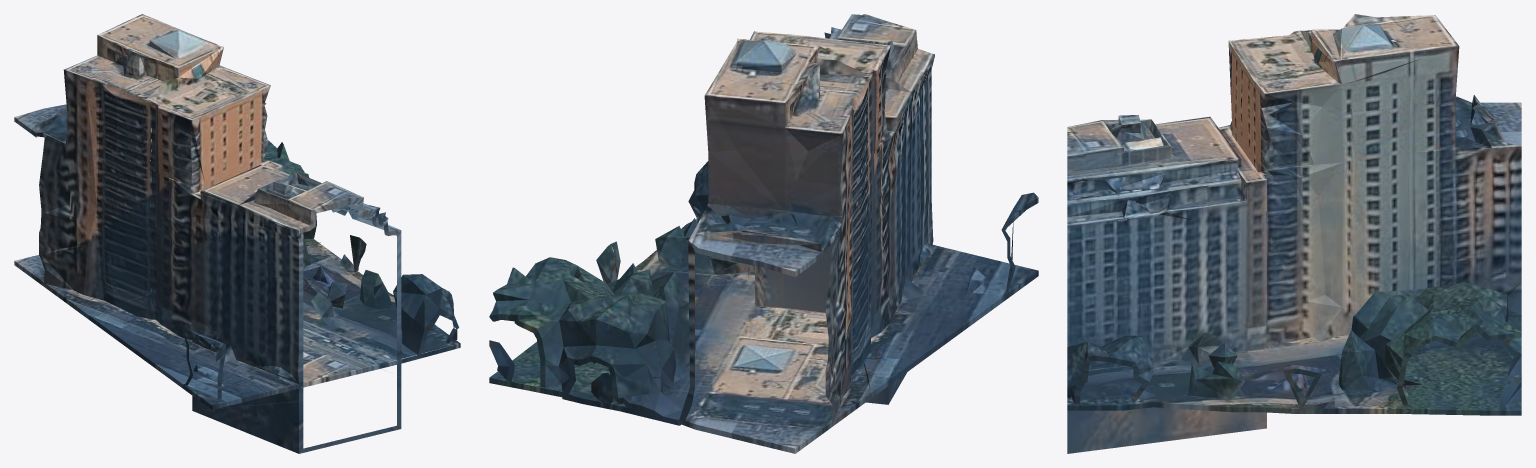
Rendered from chunk_7_0.glb.
3 renders of one model, left to right at view 1: azimuth 30°, elevation 25°; view 2: azimuth 150°, elevation 25°; view 3: azimuth 270°, elevation 25°, orthographic. The views are drawn at different scales.
Visible parts, largest first — view 1: hero-chunk; view 2: hero-chunk; view 3: hero-chunk.
Boxes of the visible parts, x1=… form: hero-chunk: x1=14, y1=14, x2=460, y2=453; hero-chunk: x1=489, y1=14, x2=1038, y2=453; hero-chunk: x1=1067, y1=14, x2=1521, y2=453.
Size of the model in its own units: 55.43 by 69.83 by 76.32.
2 materials, 2 textured.
